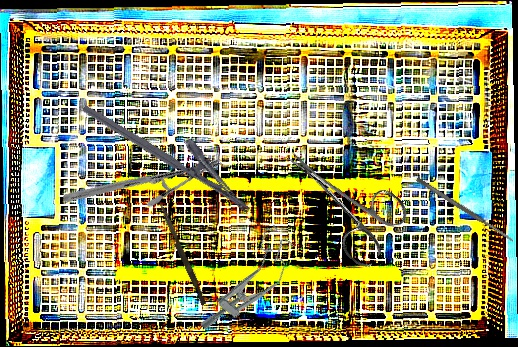Iris Scissors: (264, 127, 416, 272)
Needle Holder: (60, 101, 225, 260), (81, 81, 265, 215)
Pusher: (155, 202, 209, 306)
Spatula Surgical: (415, 176, 515, 244)
Speculum: (192, 222, 306, 347)
